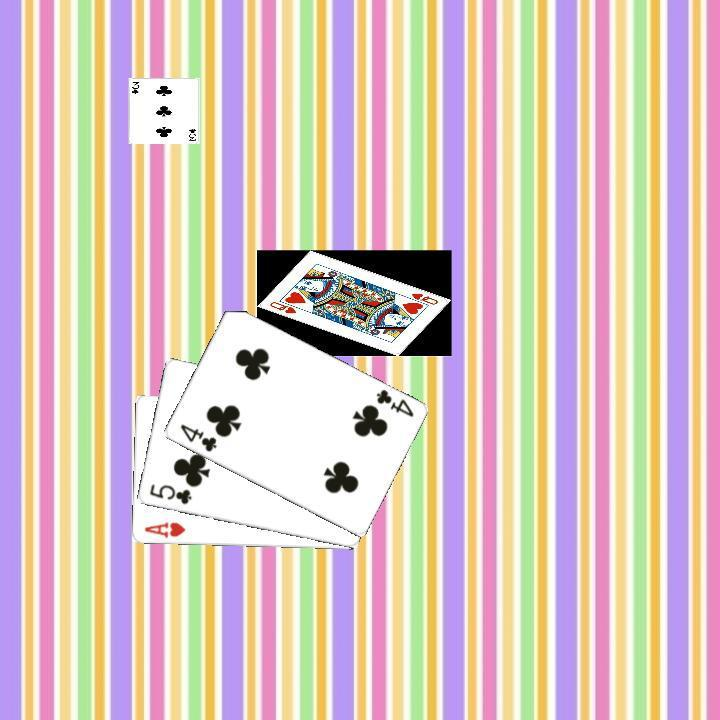4: (371, 385, 415, 419), (175, 420, 218, 454)
5: (144, 480, 193, 507)
A: (140, 517, 187, 540)
